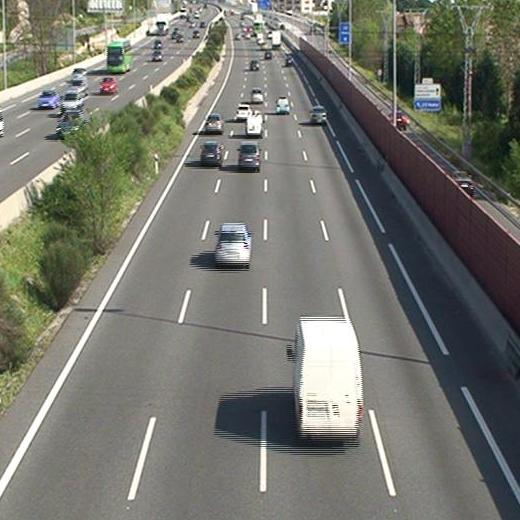car: (216, 224, 252, 265), (239, 144, 261, 168), (200, 142, 221, 165), (206, 114, 224, 130), (311, 106, 326, 124), (236, 104, 253, 118), (250, 88, 263, 102), (276, 98, 288, 112), (249, 60, 259, 70), (283, 58, 293, 67), (263, 50, 271, 58)
van: (292, 318, 363, 437), (245, 116, 262, 136)
